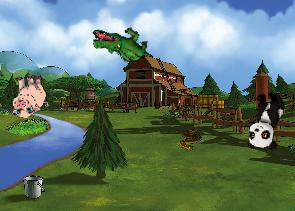crocodile: (91, 24, 153, 65)
panda: (245, 88, 286, 152)
pig: (7, 73, 49, 118)
